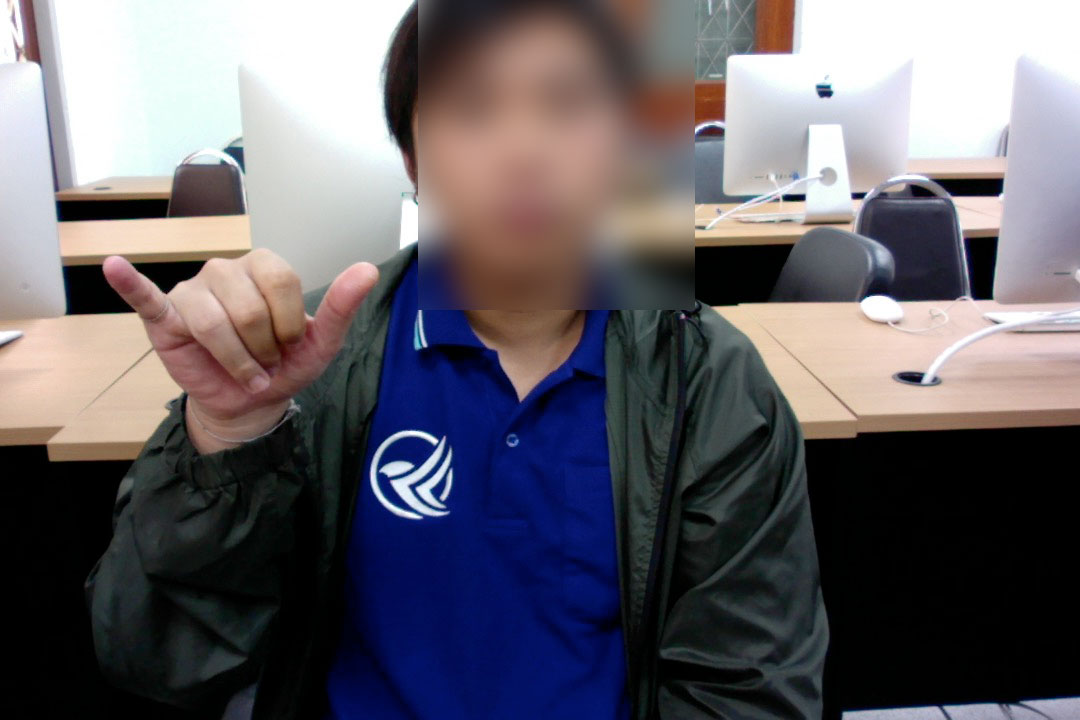yor: (89, 243, 413, 433)
